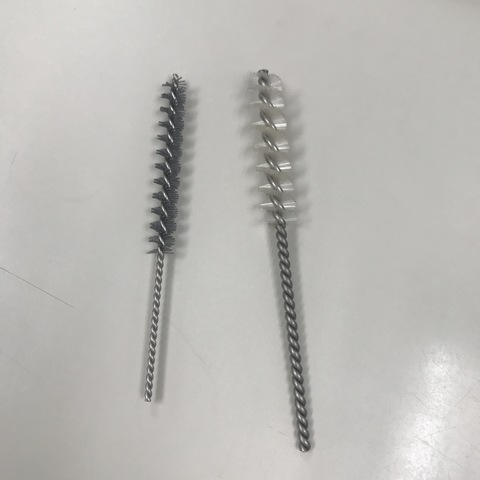Twist Brush-A: (129, 70, 195, 407)
Twist Brush-B: (240, 68, 333, 453)
